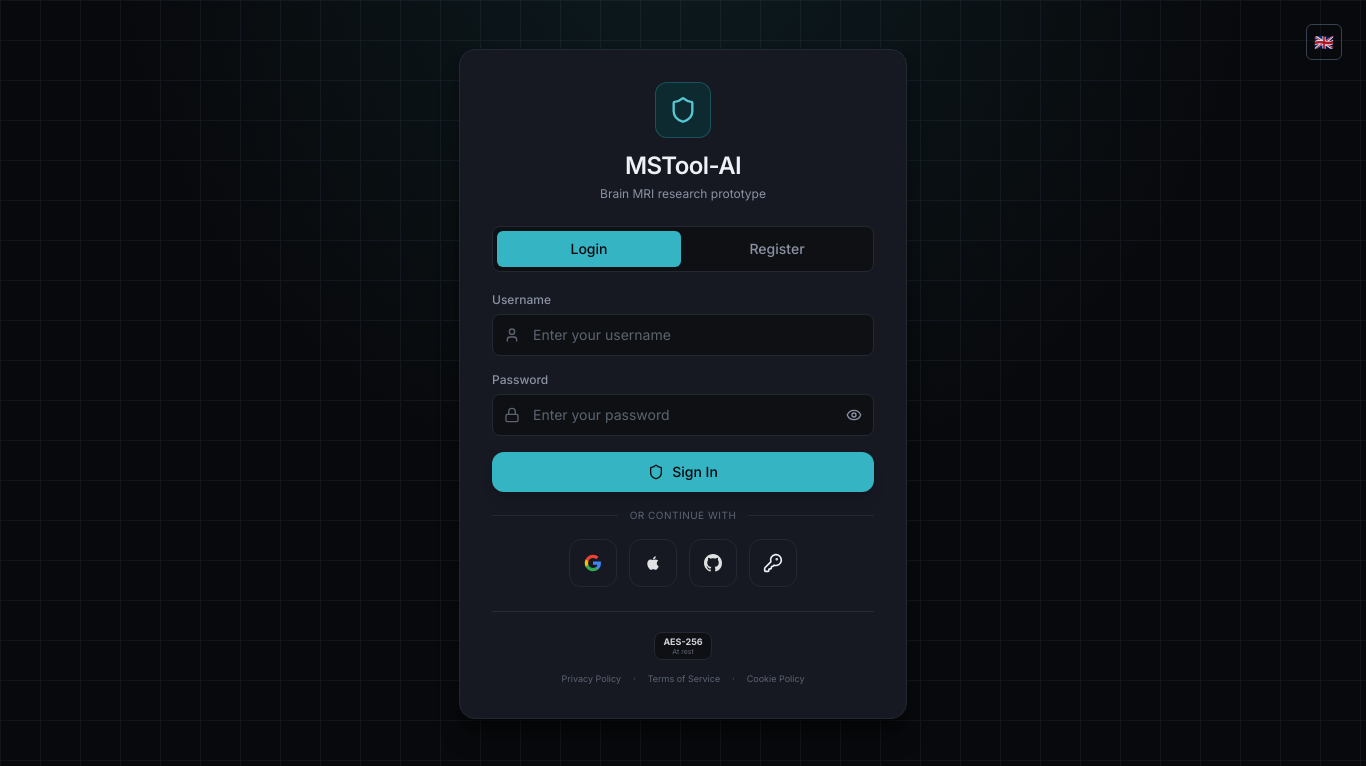
it: PRB-020 sign-in page: self-registration only when the server allows it › rc080 prb020 shows the Register tab and form only when the server says it is on
Click the button "Register" at (777, 249), box x1=685 y1=231 x2=869 y2=267
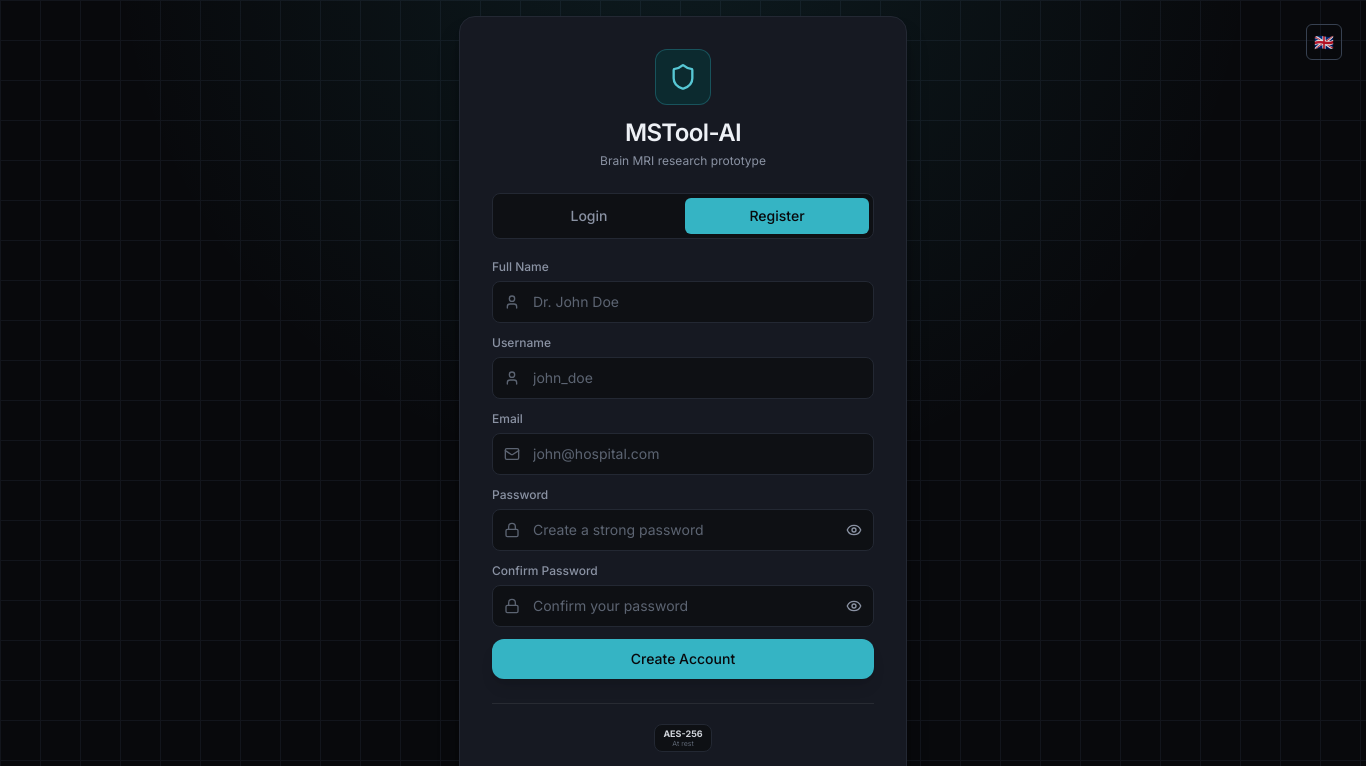
Check: the button "Create Account" is shown, box x1=492 y1=639 x2=874 y2=679
